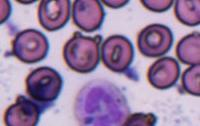N: (75, 80, 129, 126)
